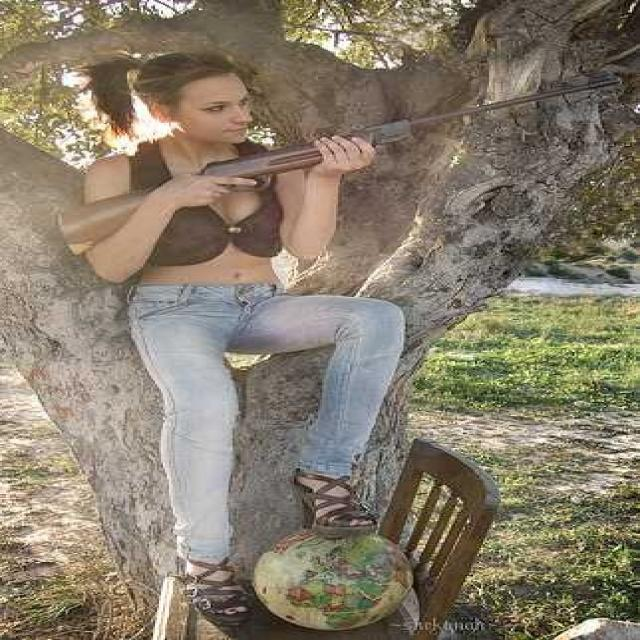weapon: (14, 56, 636, 258)
